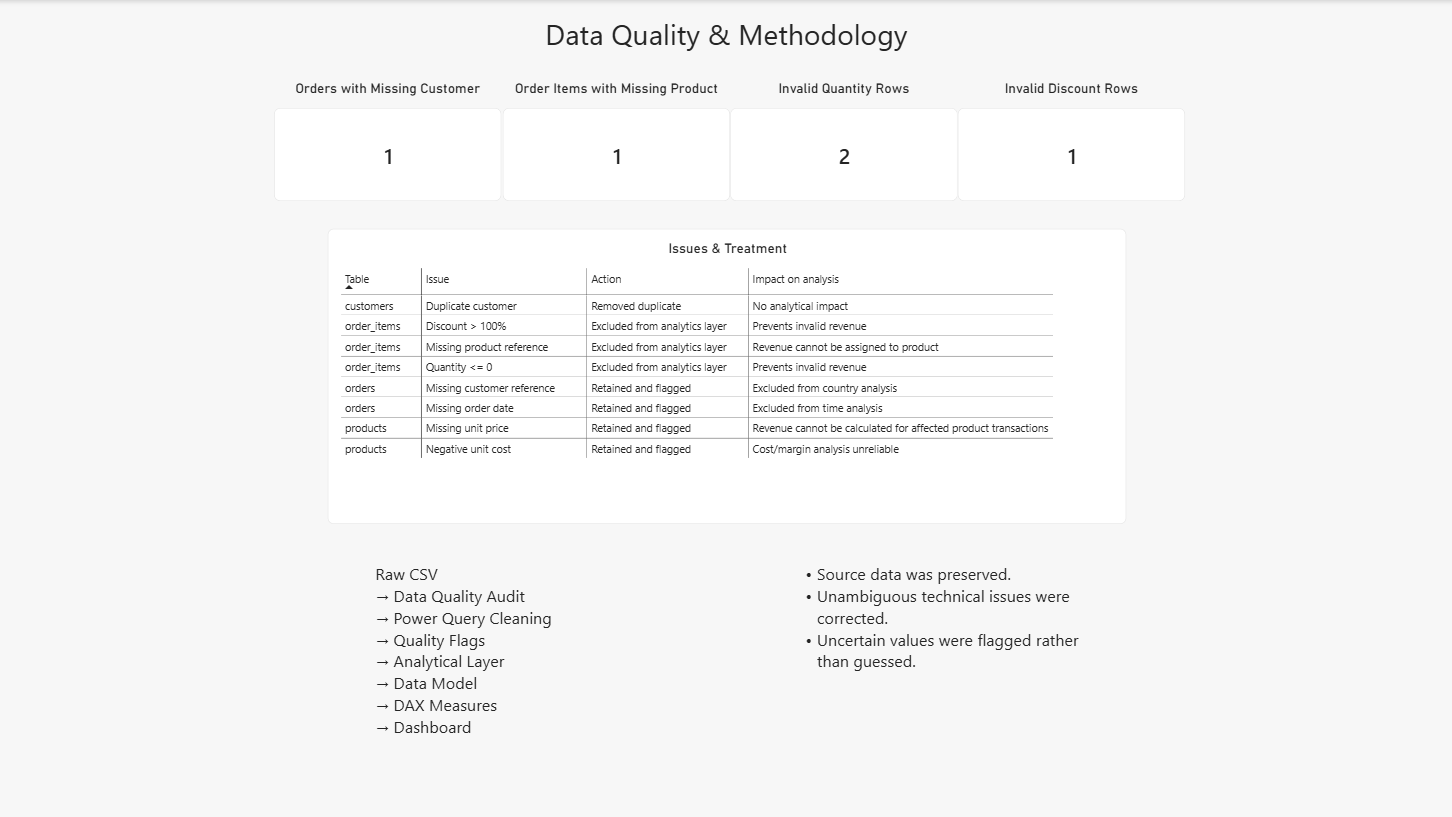

What the dashboard file says about the page in this screenshot:
{"tool":"powerbi","page":{"name":"Data Quality & Methodology","canvas":[1920,1080],"ordinal":1},"visuals":[{"type":"textbox","box":[0,20.4,1919.7,75.9],"z":2000},{"type":"cardVisual","title":"Orders with Missing Customer","fields":{"Data":["orders_analytics.Orders with Missing Customer"]},"box":[363.5,105.7,300,160],"z":3000},{"type":"cardVisual","title":"Order Items with Missing Product","fields":{"Data":["orders_analytics.Order Items with Missing Product"]},"box":[664.1,105.7,300,160],"z":4000},{"type":"cardVisual","title":"Invalid Quantity Rows","fields":{"Data":["orders_analytics.Invalid Quantity Rows"]},"box":[964.8,105.7,300,160],"z":5000},{"type":"cardVisual","title":"Invalid Discount Rows","fields":{"Data":["orders_analytics.Invalid discount"]},"box":[1265.5,105.7,300,160],"z":6000},{"type":"tableEx","title":"Issues & Treatment","fields":{"Values":["Issues & Treatment.Table ","Issues & Treatment.Issue ","Issues & Treatment.Action ","Issues & Treatment.Impact on analysis"]},"box":[433,301.8,1053.9,389.3],"z":7000},{"type":"textbox","box":[496.3,742.6,291.1,321.4],"z":8000},{"type":"textbox","box":[1046.9,742.6,387.6,240.9],"z":9000}]}

Visuals, with their boxes in screenshot pixels (x1, y1, x2, y2), scaled from the page's 1920x1080 canvas onto the 1452x817 screenshot:
textbox: (x1=0, y1=15, x2=1451, y2=73)
"Orders with Missing Customer" cardVisual: (x1=275, y1=80, x2=502, y2=201)
"Order Items with Missing Product" cardVisual: (x1=502, y1=80, x2=729, y2=201)
"Invalid Quantity Rows" cardVisual: (x1=730, y1=80, x2=957, y2=201)
"Invalid Discount Rows" cardVisual: (x1=957, y1=80, x2=1184, y2=201)
"Issues & Treatment" tableEx: (x1=327, y1=228, x2=1124, y2=523)
textbox: (x1=375, y1=562, x2=595, y2=805)
textbox: (x1=792, y1=562, x2=1085, y2=744)
